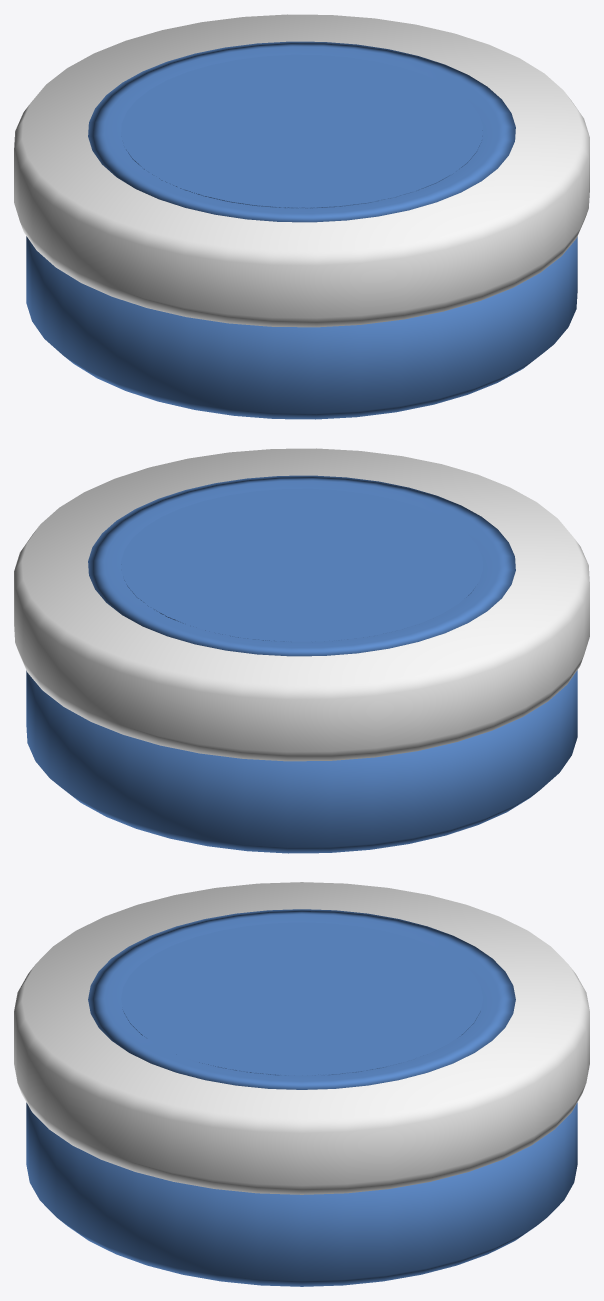
The model's file is SM_Snus.glb.
The picture shows the model from 3 angles, top to bottom: view 1: azimuth 30°, elevation 25°; view 2: azimuth 150°, elevation 25°; view 3: azimuth 270°, elevation 25°; orthographic projection.
Parts seen in each view (by area): view 1: SM_Snus; view 2: SM_Snus; view 3: SM_Snus.
Boxes of the visible parts, x1,y1,x2,y2 form: SM_Snus: [14, 14, 589, 419]; SM_Snus: [14, 448, 589, 853]; SM_Snus: [14, 882, 589, 1286].
Bounding box in the file's own units: 0.07 × 0.0238 × 0.07.
